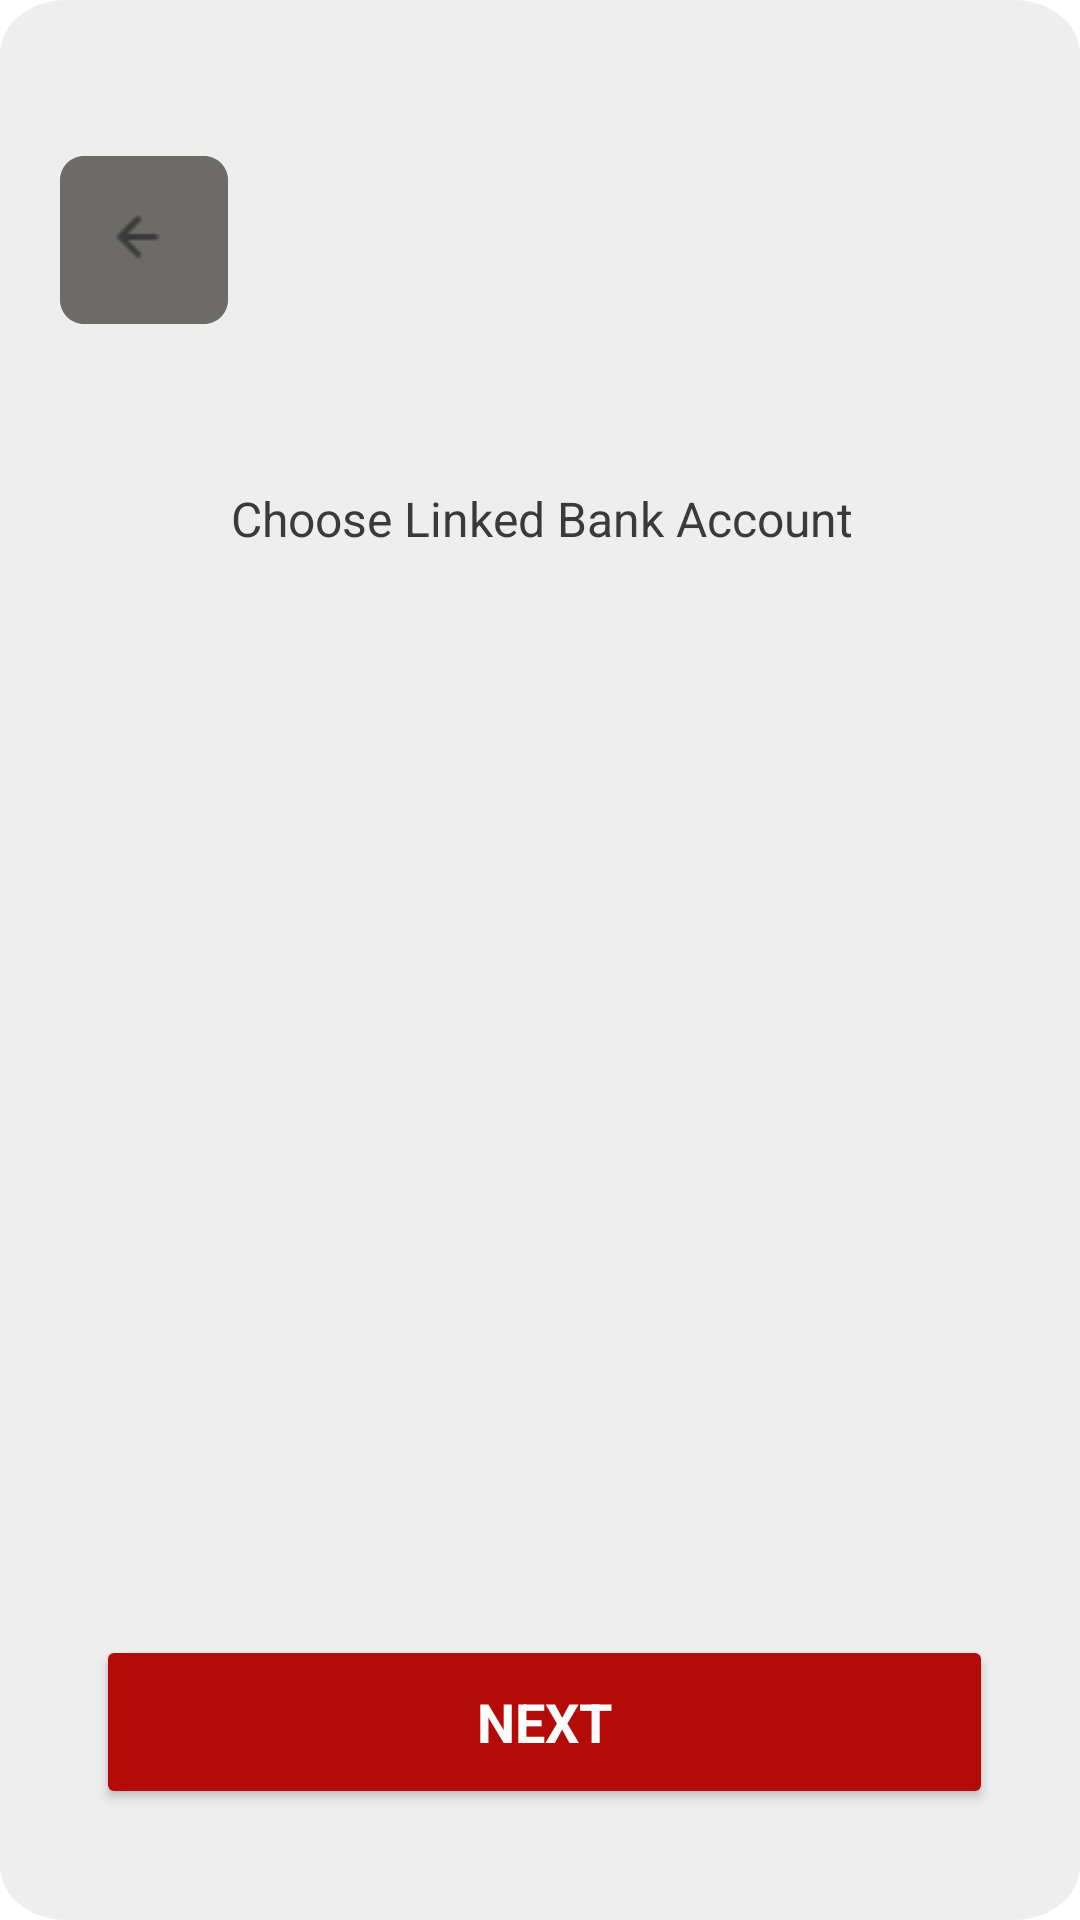

Icon click points for this 1080w x 1920h phone screenshot, format point (x, y):
Back icon: point (138, 237)
